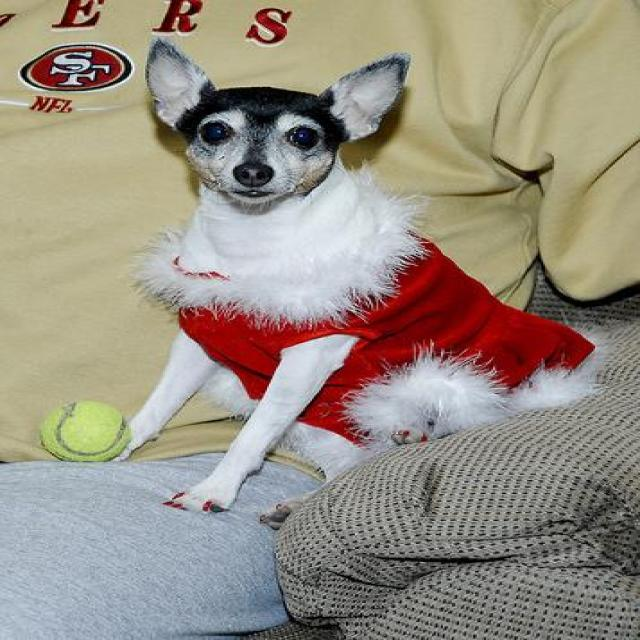toy_terrier: (109, 39, 606, 514)
